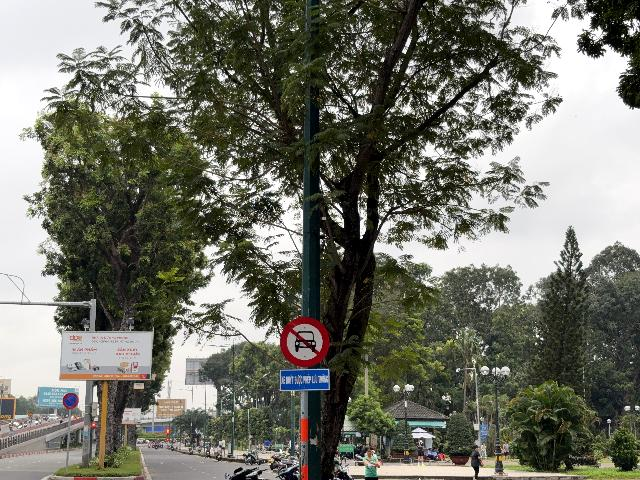cam-o-to: (280, 316, 330, 368)
